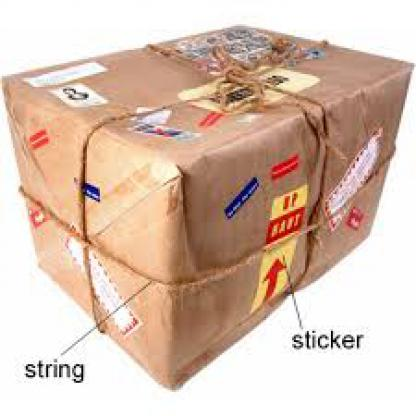paquete: (2, 15, 412, 384)
